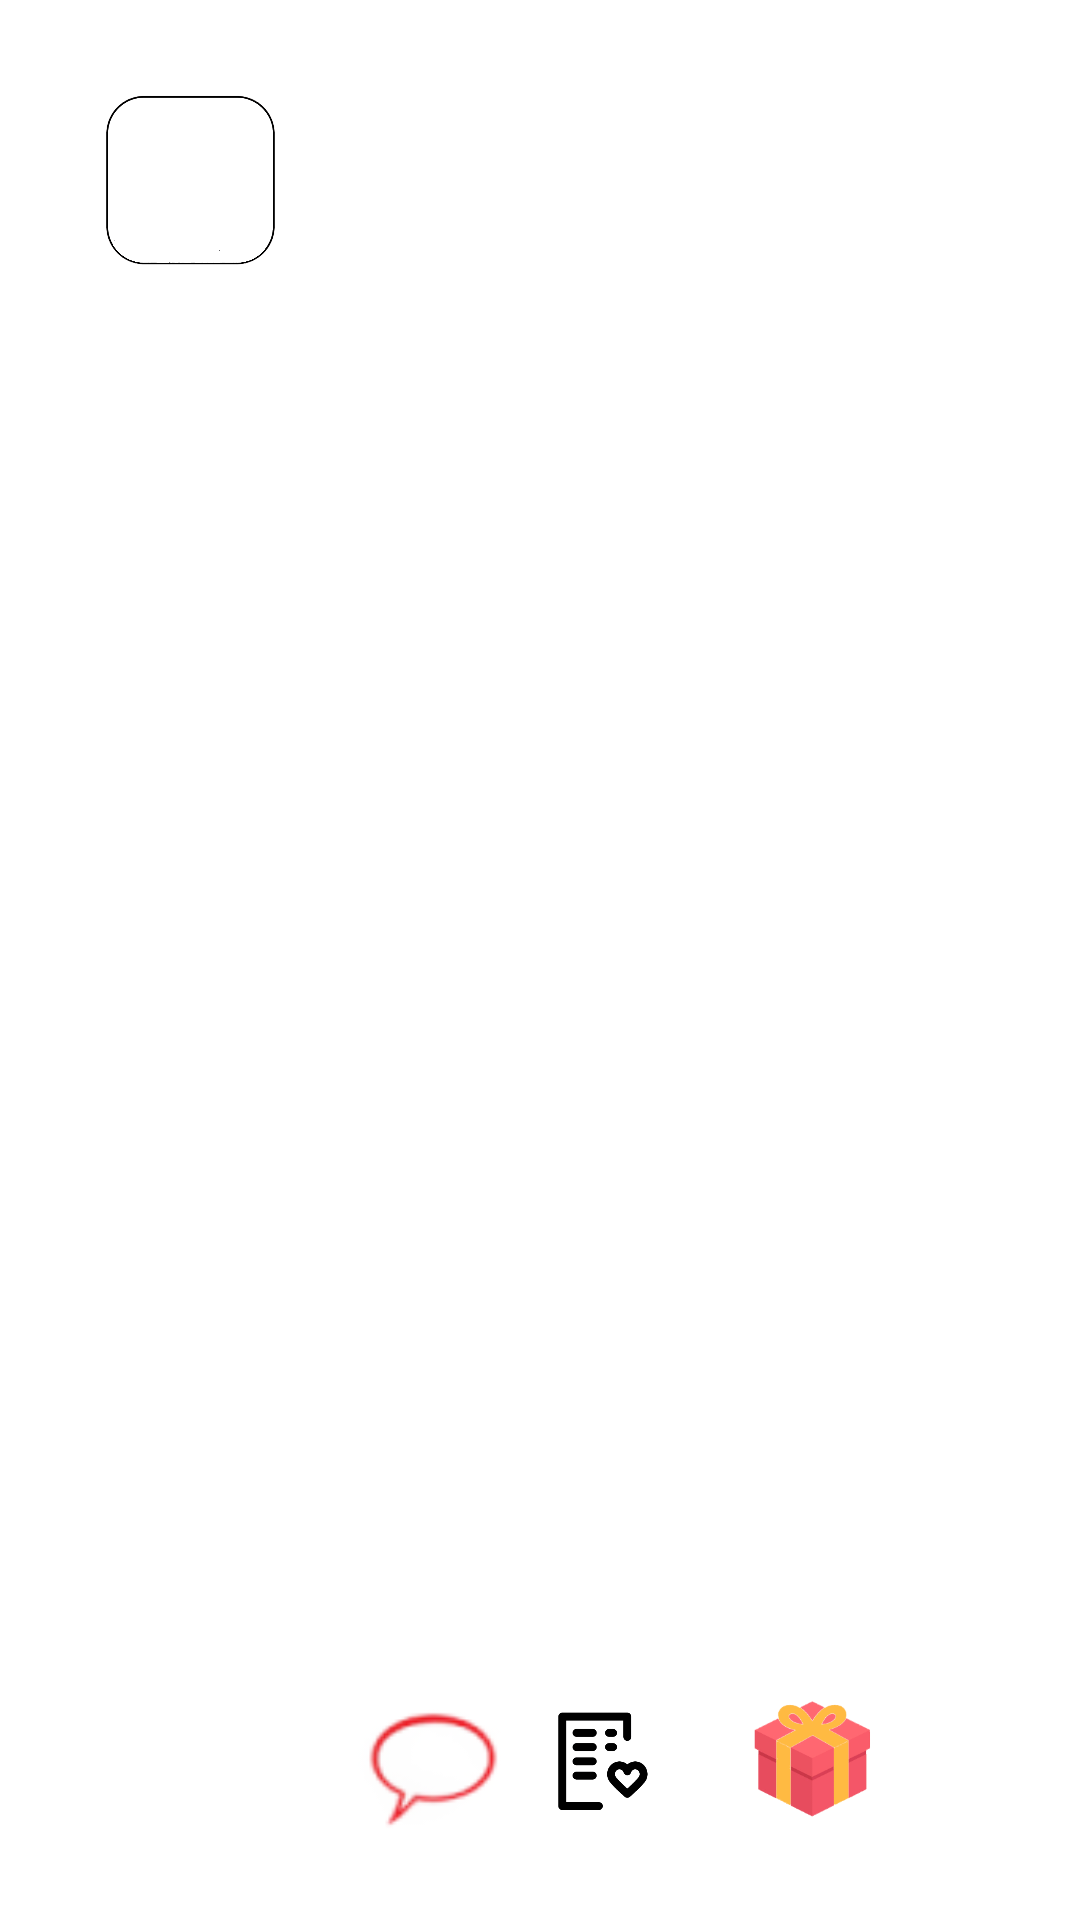

Screen size 1080px x 1920px. Icon name, then its box in pixels as (x1, y1, x2, y2):
chatt: (369, 1713, 497, 1825)
regalo: (754, 1701, 870, 1817)
